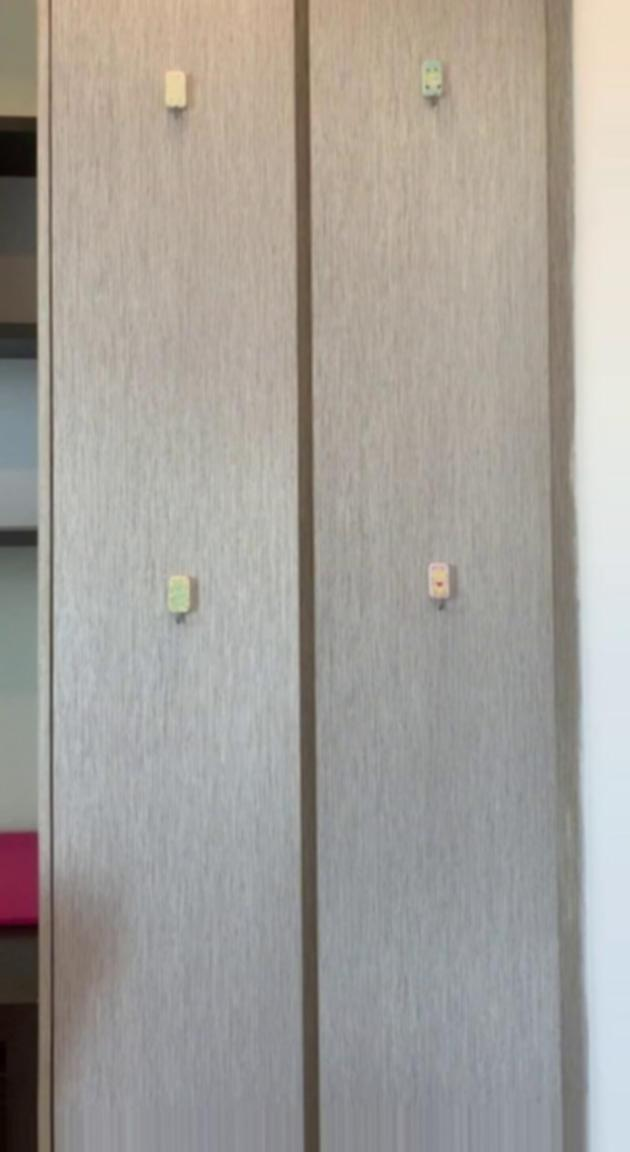Armario: (32, 7, 581, 1146)
